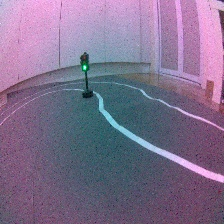green: (78, 50, 94, 101)
